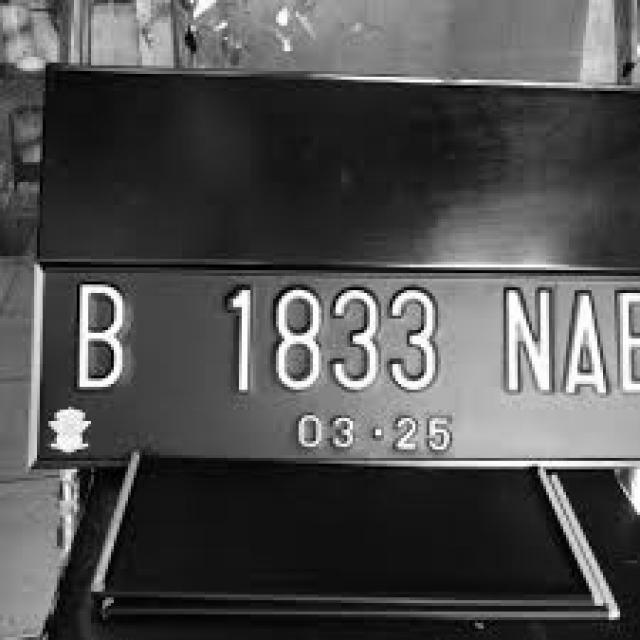1: (220, 280, 268, 414)
3: (328, 280, 380, 410), (386, 278, 434, 402)
8: (268, 286, 322, 413)
A: (560, 283, 612, 406)
B: (60, 280, 134, 404)
E: (616, 283, 640, 397)
N: (496, 284, 560, 398)
